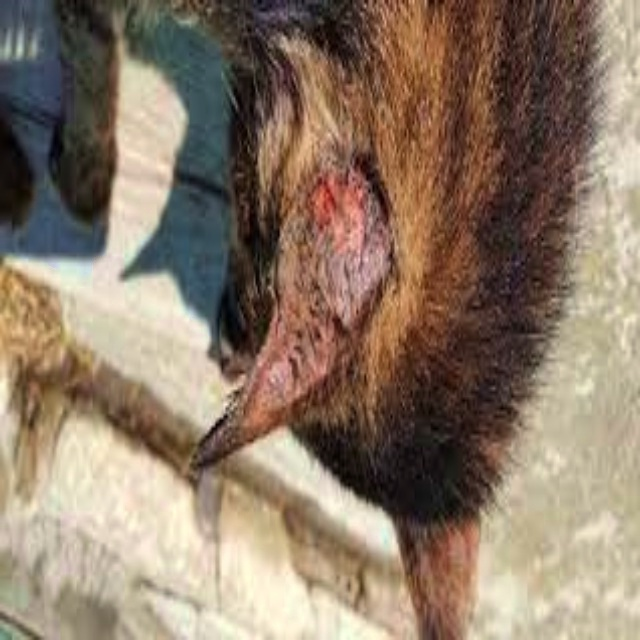ringworm: (291, 142, 387, 359)
